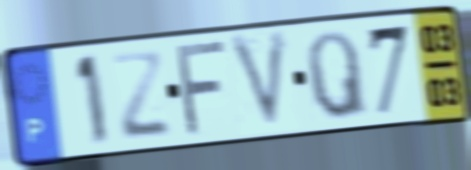1: (74, 51, 111, 149)
7: (363, 23, 415, 118)
F: (175, 37, 232, 141)
Q: (303, 27, 371, 123)
V: (225, 26, 291, 136)
Z: (109, 50, 174, 143)
